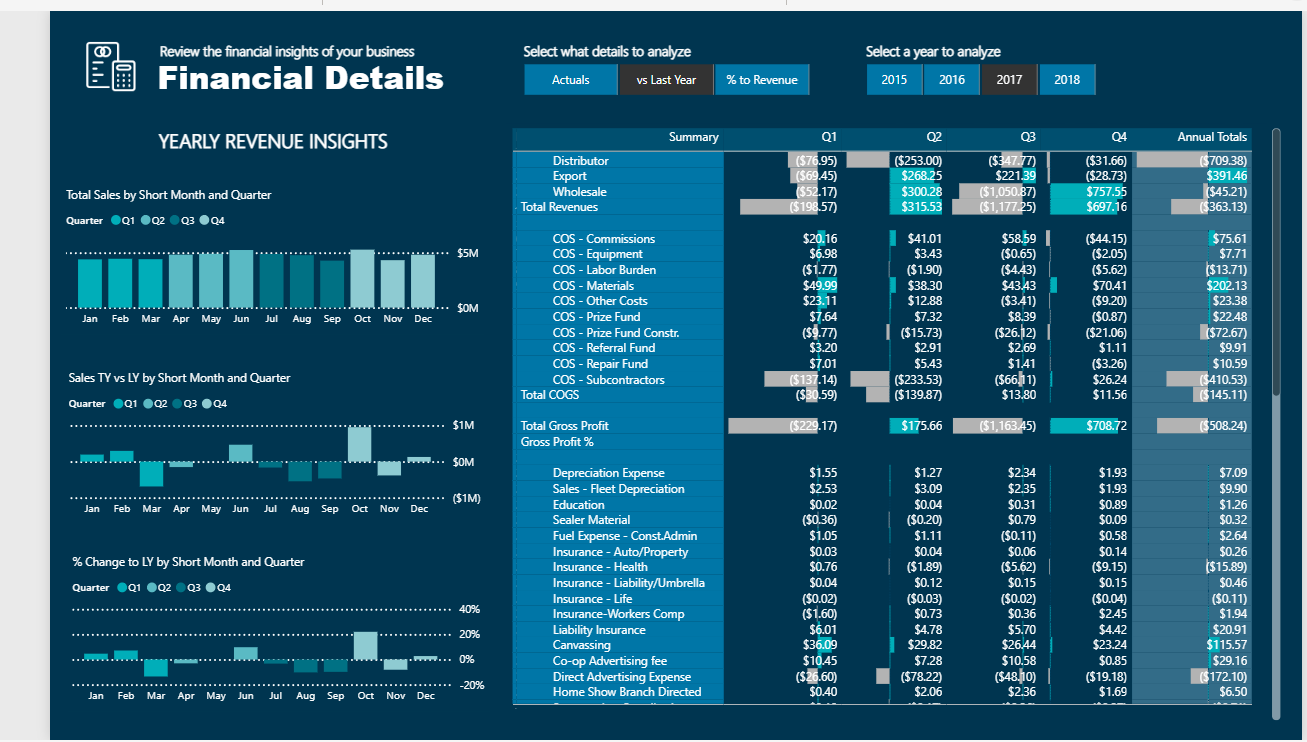

The dashboard page shown, as its layout file describes it:
{"tool":"powerbi","page":{"name":"Financial Details","canvas":[1280,720],"ordinal":2},"visuals":[{"type":"image","box":[18.3,1.1,88.2,60.2],"z":0},{"type":"textbox","box":[829.3,0,202.2,34.4],"z":1000},{"type":"textbox","box":[107.6,0,291.5,34.4],"z":2000},{"type":"textbox","box":[105.3,14.1,338.7,61.9],"z":4000},{"type":"slicer","fields":{"Values":["Dates.Year"]},"box":[808.9,21.5,284,45.2],"z":6000},{"type":"tableEx","fields":{"Values":["Income Statement Template.Row Index","Income Statement Template.Summary","Income Statement Analysis.Q1","Income Statement Analysis.Q2","Income Statement Analysis.Q3","Income Statement Analysis.Q4","Income Statement Analysis.Annual Totals"]},"box":[466.8,90.1,796.9,615.6],"z":7000},{"type":"slicer","fields":{"Values":["Income Statement Visual.Table Detail"]},"box":[458.4,21.7,341.5,45.5],"z":8000},{"type":"textbox","box":[479.1,0,202.8,34.1],"z":9000},{"type":"columnChart","fields":{"Category":["Dates.Short Month"],"Y":["Key Measures.Total Sales"],"Series":["Dates.Quarter"]},"box":[11.9,153.1,432.1,152],"z":10000},{"type":"columnChart","fields":{"Category":["Dates.Short Month"],"Series":["Dates.Quarter"],"Y":["Time Comparison.Sales TY vs LY"]},"box":[14.1,340.9,432.1,158.5],"z":11000},{"type":"columnChart","fields":{"Category":["Dates.Short Month"],"Series":["Dates.Quarter"],"Y":["Time Comparison.% Change to LY"]},"box":[18.5,529.8,432.1,161.8],"z":12000},{"type":"textbox","box":[95.5,87.9,264.9,42.3],"z":13000}]}

Visuals, with their boxes in screenshot pixels (x1, y1, x2, y2), scaled from the page's 1280x720 canvas onto the 1307x742 screenshot:
image: <box>19,1,109,63</box>
textbox: <box>847,0,1053,35</box>
textbox: <box>110,0,408,35</box>
textbox: <box>108,15,453,78</box>
slicer - Dates.Year: <box>826,22,1116,69</box>
tableEx - Income Statement Template.Row Index x Income Statement Template.Summary: <box>477,93,1290,727</box>
slicer - Income Statement Visual.Table Detail: <box>468,22,817,69</box>
textbox: <box>489,0,696,35</box>
columnChart - Dates.Short Month x Key Measures.Total Sales: <box>12,158,453,314</box>
columnChart - Dates.Short Month x Dates.Quarter: <box>14,351,456,515</box>
columnChart - Dates.Short Month x Dates.Quarter: <box>19,546,460,713</box>
textbox: <box>98,91,368,134</box>
